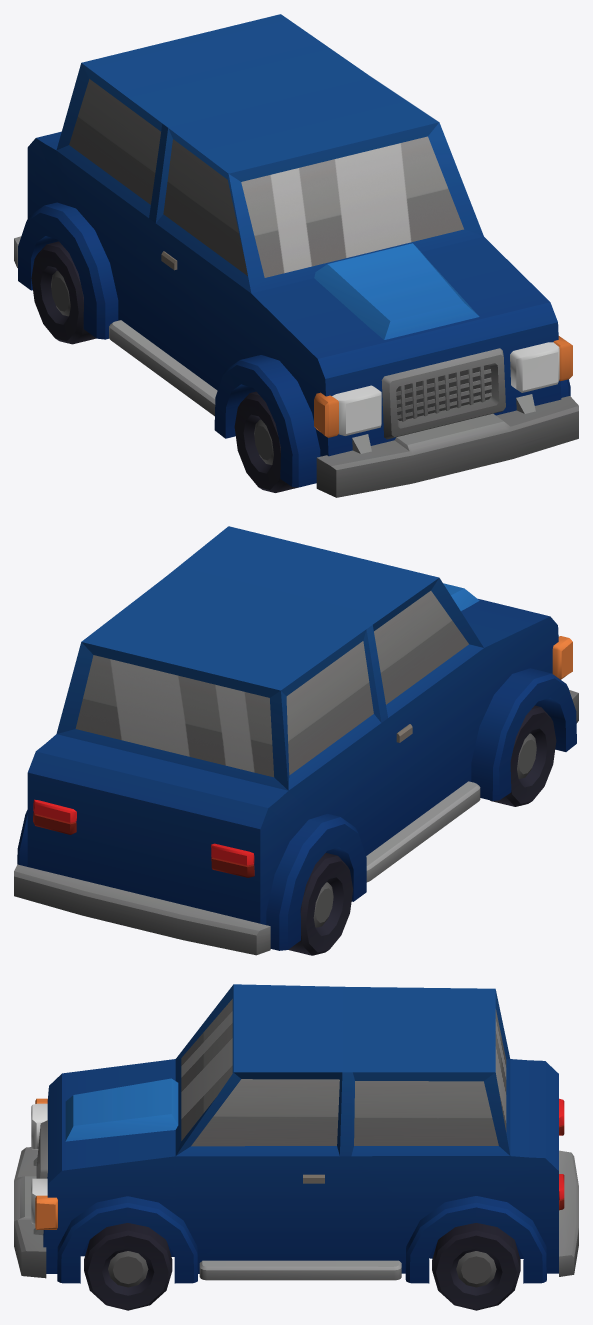
File: Car_3_15.fbx
The picture shows the model from 3 angles, top to bottom: view 1: azimuth 30°, elevation 25°; view 2: azimuth 150°, elevation 25°; view 3: azimuth 270°, elevation 25°; orthographic projection. The views are drawn at different scales.
Parts seen in each view (by area): view 1: Car_3_15, Wheel_Br, Wheel_Fr; view 2: Car_3_15, Wheel_Br, Wheel_Fr; view 3: Car_3_15, Wheel_Bl, Wheel_Fl.
Part boxes in pixels (box(x1,y1,x2,y2)): Car_3_15: box(14, 14, 578, 497); Wheel_Br: box(31, 241, 96, 344); Wheel_Fr: box(234, 391, 297, 492); Car_3_15: box(14, 526, 578, 955); Wheel_Br: box(288, 853, 353, 955); Wheel_Fr: box(490, 705, 556, 806); Car_3_15: box(14, 984, 578, 1283); Wheel_Bl: box(432, 1223, 520, 1310); Wheel_Fl: box(84, 1223, 172, 1310).
Size of the model in its own units: 113 by 102 by 230.
